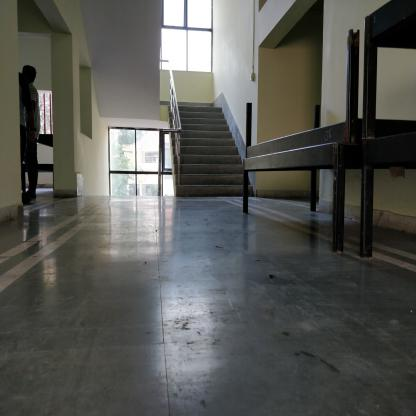stairs: (184, 107, 224, 198)
